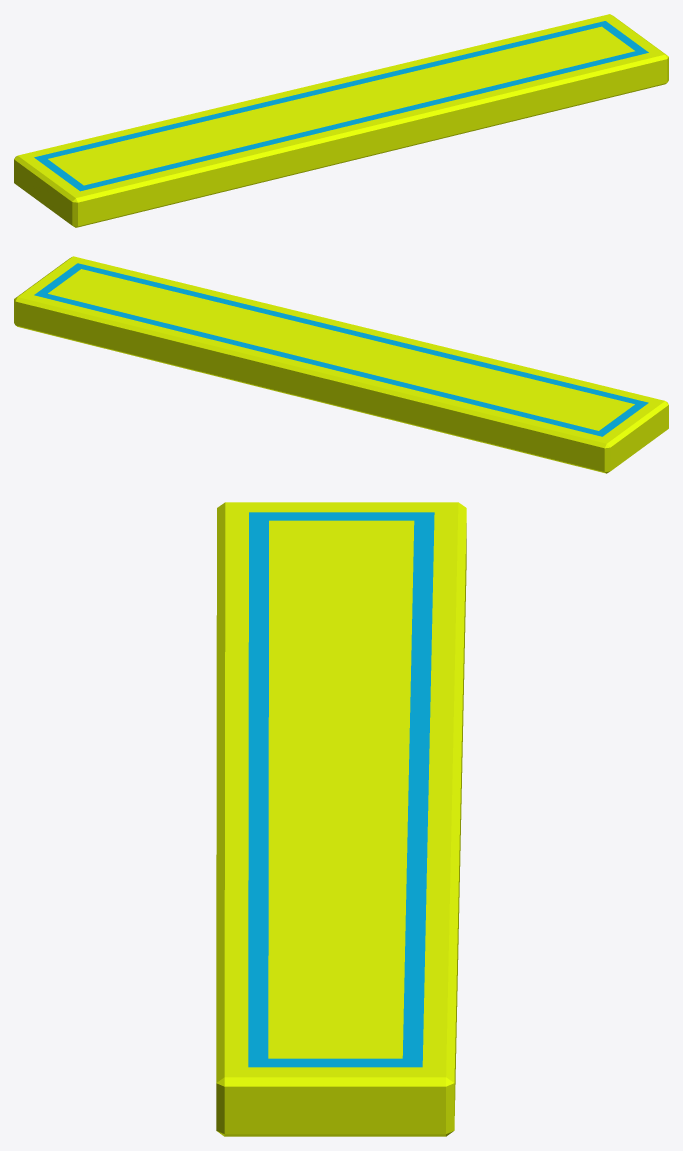
File: Re_Inlane_Vert_Short.fbx
3 views of the same model, one above another, from view 1: azimuth 30°, elevation 25°; view 2: azimuth 150°, elevation 25°; view 3: azimuth 270°, elevation 25° (orthographic). The views are drawn at different scales.
Visible parts, largest first — view 1: Re_Inlane_Vert_Short; view 2: Re_Inlane_Vert_Short; view 3: Re_Inlane_Vert_Short.
Part boxes in pixels (<box>): Re_Inlane_Vert_Short: <box>14,14,668,227</box>; Re_Inlane_Vert_Short: <box>14,256,668,473</box>; Re_Inlane_Vert_Short: <box>216,502,466,1136</box>.
Size of the model in its own units: 5.82 by 0.2776 by 1.06.
